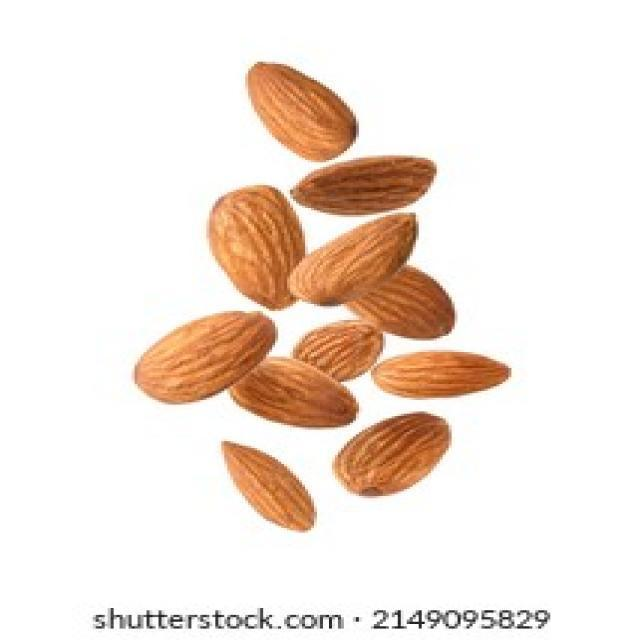almond: (131, 311, 277, 404), (287, 209, 423, 304), (207, 183, 307, 307), (242, 58, 357, 164), (334, 412, 454, 495), (230, 357, 360, 429), (219, 439, 317, 528), (287, 156, 437, 213), (345, 265, 456, 338), (374, 348, 512, 400), (289, 321, 383, 384)
